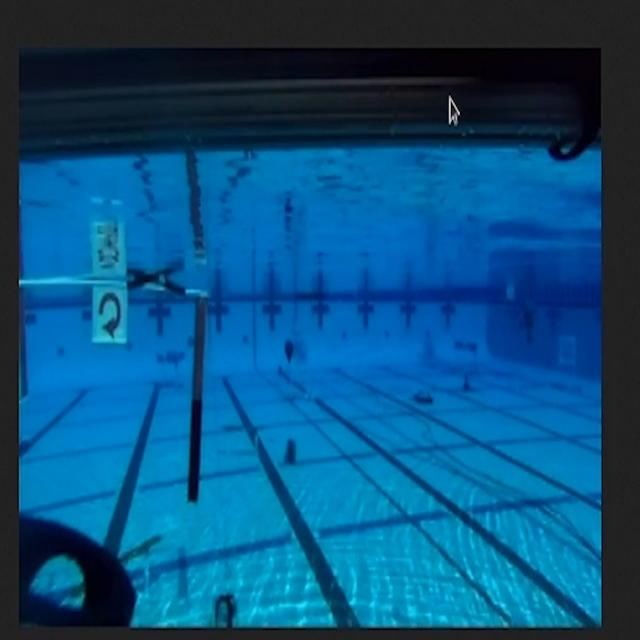Gate: (20, 258, 222, 516)
Path: (110, 528, 176, 581)
